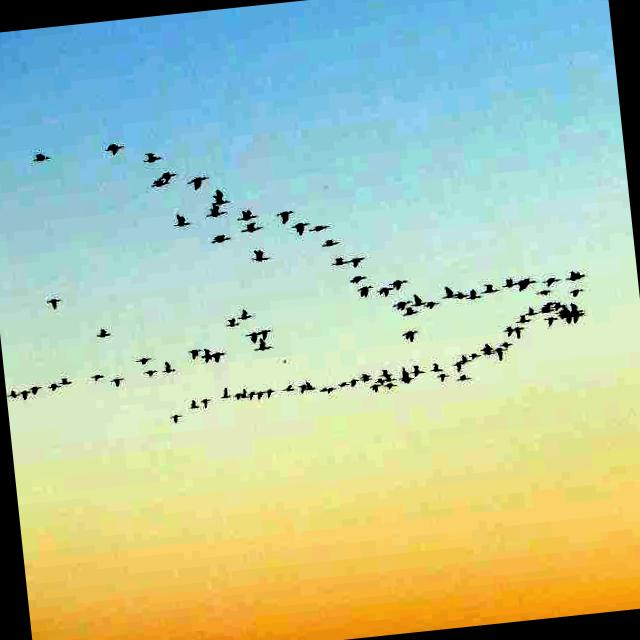bird: (168, 204, 192, 242), (503, 314, 530, 346), (563, 264, 599, 287), (184, 165, 210, 192), (198, 200, 228, 223), (194, 340, 216, 370), (240, 246, 272, 266), (271, 202, 295, 227), (344, 266, 368, 291), (298, 376, 318, 406), (320, 227, 344, 251), (85, 364, 106, 391), (233, 202, 260, 223), (539, 264, 562, 288), (206, 179, 228, 204), (236, 299, 258, 324), (26, 374, 47, 400), (440, 274, 458, 304), (102, 137, 125, 160), (140, 144, 162, 168), (160, 349, 178, 378), (333, 362, 349, 394), (204, 230, 234, 247), (92, 320, 114, 343), (108, 372, 132, 393), (391, 292, 412, 316), (330, 248, 350, 273), (250, 339, 274, 359), (378, 374, 398, 398), (409, 282, 426, 310), (479, 278, 504, 297), (494, 327, 510, 356), (498, 270, 521, 290), (566, 280, 589, 300), (42, 291, 61, 315), (18, 376, 33, 406), (44, 369, 62, 394), (238, 222, 266, 238), (237, 375, 250, 409), (31, 146, 52, 167), (376, 280, 394, 304), (216, 383, 233, 408), (291, 217, 312, 237), (454, 367, 474, 388), (147, 174, 169, 193), (308, 217, 330, 236), (350, 245, 369, 267), (408, 358, 427, 380), (248, 386, 264, 412), (133, 350, 156, 368), (396, 366, 414, 389), (398, 327, 422, 344), (526, 297, 539, 328), (478, 331, 492, 359), (223, 312, 240, 335), (489, 346, 506, 369), (6, 381, 21, 407), (140, 366, 160, 385), (426, 294, 443, 316), (212, 344, 227, 368), (392, 272, 412, 290), (349, 372, 364, 396), (376, 360, 394, 380), (453, 354, 468, 378), (538, 298, 560, 314), (185, 344, 202, 364), (187, 392, 200, 418), (160, 168, 184, 182), (468, 346, 482, 369), (516, 272, 536, 288), (259, 320, 274, 341), (428, 372, 450, 386), (542, 314, 559, 332), (570, 304, 585, 324), (282, 379, 296, 400), (356, 364, 370, 385), (453, 285, 470, 302), (56, 372, 74, 388), (356, 282, 374, 298), (464, 286, 482, 302), (533, 283, 553, 297), (430, 354, 444, 374), (198, 394, 212, 412), (170, 408, 182, 428), (232, 386, 244, 406), (323, 384, 338, 399), (268, 384, 278, 404), (402, 308, 422, 318), (368, 383, 382, 397), (246, 331, 260, 344), (321, 384, 328, 390)
